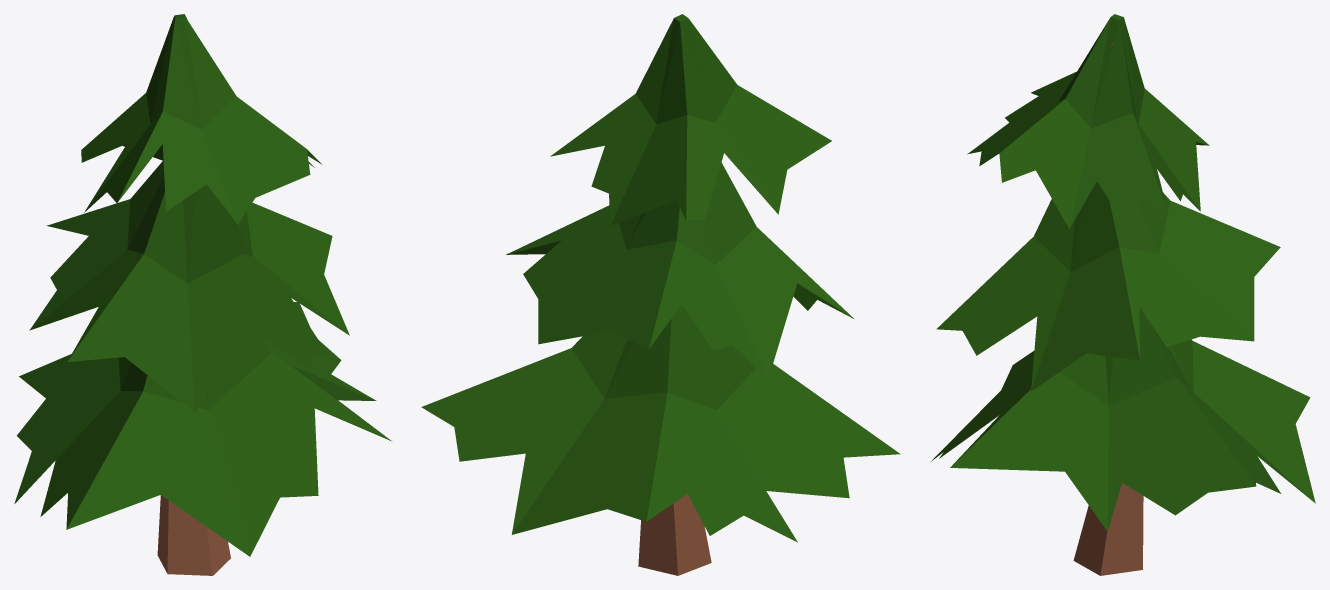
The model's file is tree_4.fbx.
3 renders of one model, left to right at view 1: azimuth 30°, elevation 25°; view 2: azimuth 150°, elevation 25°; view 3: azimuth 270°, elevation 25°, orthographic.
Parts seen in each view (by area): view 1: tree_4; view 2: tree_4; view 3: tree_4.
Part boxes in pixels (x1,y1,x2,y2): tree_4: [14, 14, 392, 575]; tree_4: [421, 14, 900, 575]; tree_4: [931, 14, 1315, 575].
Size of the model in its own units: 251 by 366 by 238.
